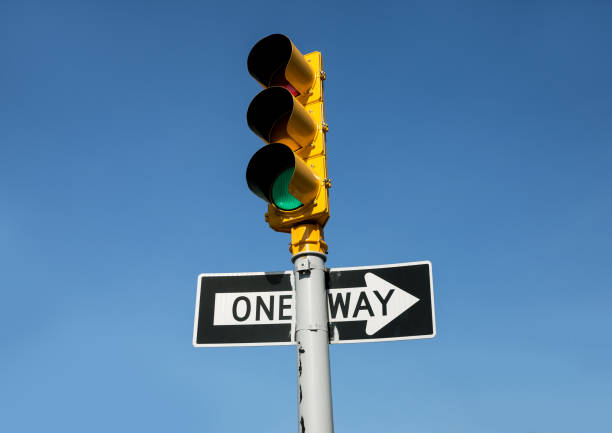traffic light: (218, 15, 366, 253)
